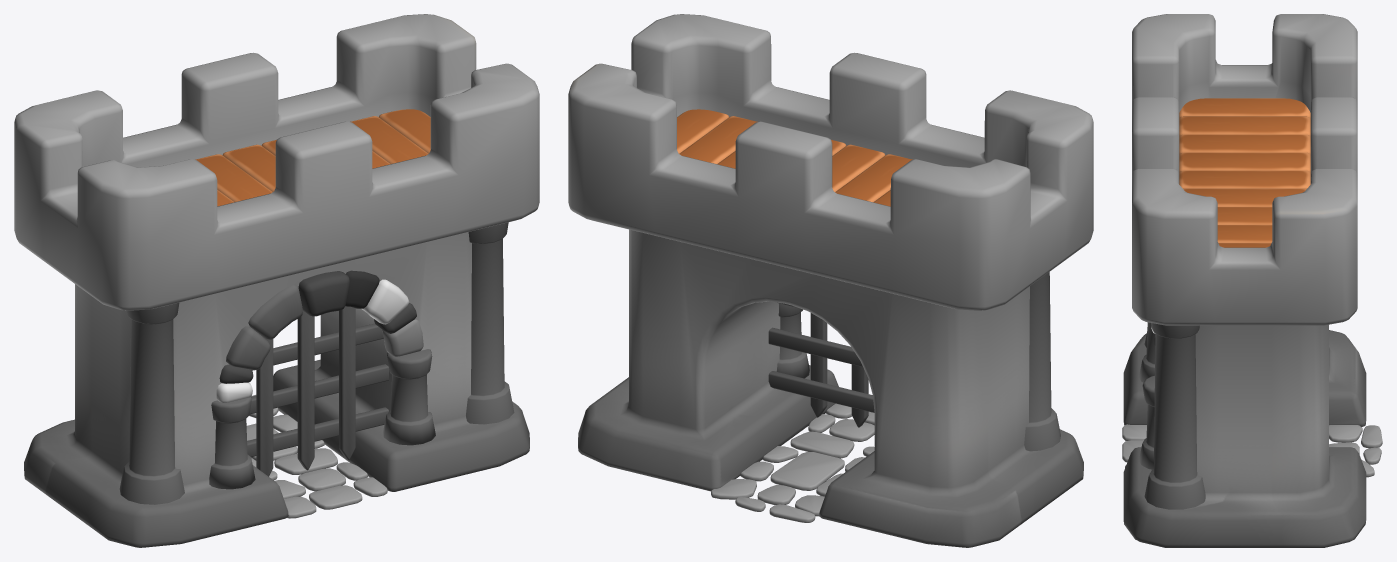
The model's file is castle gate.fbx.
The picture shows the model from 3 angles, left to right: view 1: azimuth 30°, elevation 25°; view 2: azimuth 150°, elevation 25°; view 3: azimuth 270°, elevation 25°; orthographic projection. The views are drawn at different scales.
Parts seen in each view (by area): view 1: castle gate.002, castle gate metal.002; view 2: castle gate.002, castle gate metal.002; view 3: castle gate.002.
Boxes of the visible parts, box(x1,y1,x2,y2) form: castle gate.002: box(14, 14, 539, 547); castle gate metal.002: box(247, 306, 388, 476); castle gate.002: box(568, 14, 1093, 547); castle gate metal.002: box(768, 302, 874, 427); castle gate.002: box(1122, 14, 1382, 547).
Bounding box in the file's own units: 880 × 692 × 480.
3 materials, 1 textured.
